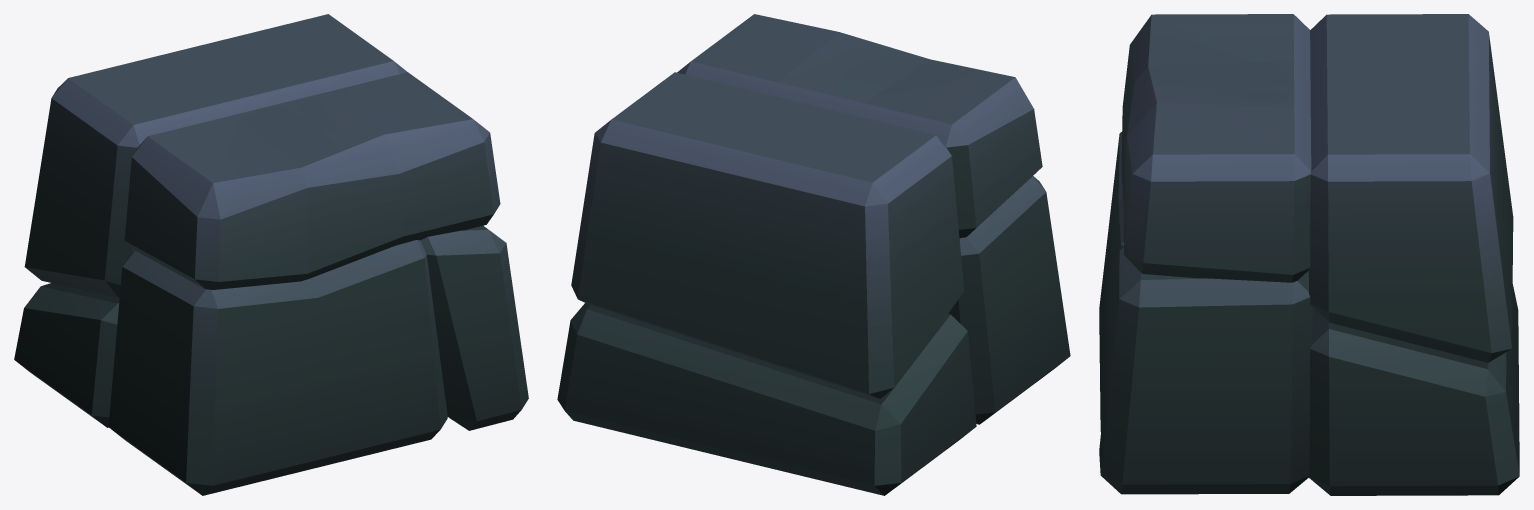
The model's file is undead_throne_stone.fbx.
3 views of the same model, side by side, from view 1: azimuth 30°, elevation 25°; view 2: azimuth 150°, elevation 25°; view 3: azimuth 270°, elevation 25° (orthographic). The views are drawn at different scales.
Visible parts, largest first — view 1: undead_throne_stone; view 2: undead_throne_stone; view 3: undead_throne_stone.
Boxes of the visible parts, box(x1,y1,x2,y2) form: undead_throne_stone: box(14, 14, 528, 495); undead_throne_stone: box(557, 14, 1070, 495); undead_throne_stone: box(1099, 14, 1519, 495).
Bounding box in the file's own units: 3.08 × 2.58 × 2.95.
